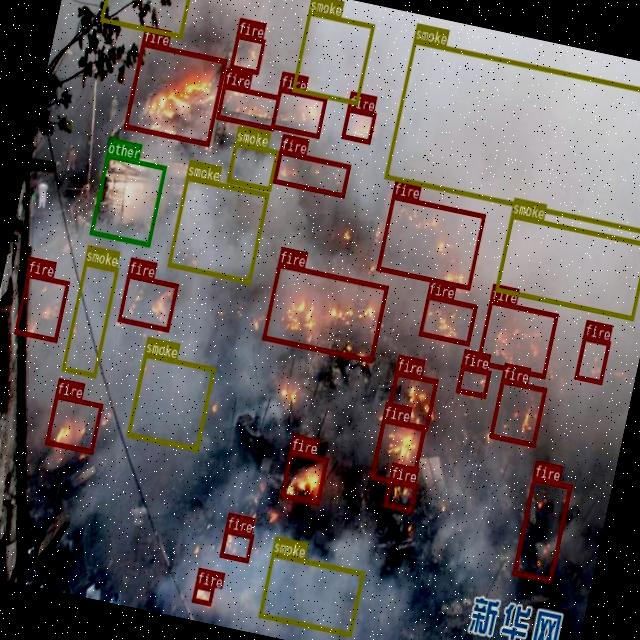fire: (261, 262, 388, 362), (123, 40, 226, 145), (376, 193, 486, 288), (476, 299, 558, 378), (511, 475, 571, 581), (368, 418, 426, 487), (488, 378, 546, 446), (13, 272, 68, 341), (272, 149, 350, 197), (117, 272, 178, 331), (44, 393, 102, 452), (384, 369, 438, 429), (418, 292, 477, 346), (215, 82, 280, 129), (270, 86, 326, 136), (279, 449, 327, 504), (573, 334, 610, 384), (228, 32, 264, 74), (340, 105, 376, 144), (219, 528, 253, 562), (456, 364, 490, 397), (384, 478, 416, 510), (190, 582, 213, 604)
smoke: (383, 38, 640, 232), (493, 212, 640, 320), (166, 174, 268, 283), (257, 551, 364, 635), (126, 352, 215, 450), (291, 10, 374, 104), (60, 260, 118, 376), (99, 0, 191, 38), (225, 140, 278, 190)
